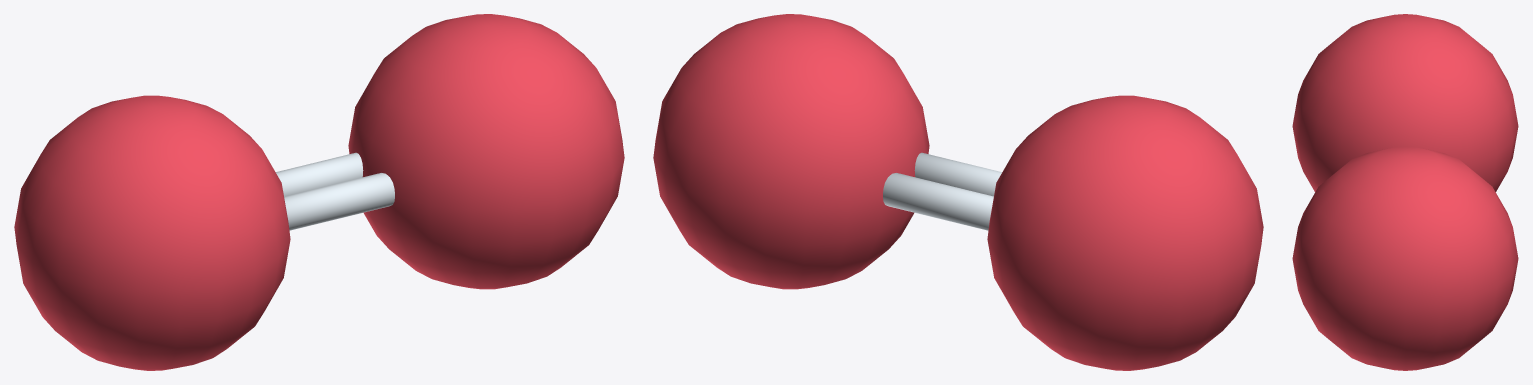
Rendered from oxygen-molecule-lite.glb.
The picture shows the model from 3 angles, left to right: view 1: azimuth 30°, elevation 25°; view 2: azimuth 150°, elevation 25°; view 3: azimuth 270°, elevation 25°; orthographic projection. The views are drawn at different scales.
Visible parts, largest first — view 1: Atom; view 2: Atom; view 3: Atom.
Part boxes in pixels (left/top/right/bottom): Atom: left=14, top=14, right=624, bottom=370; Atom: left=653, top=14, right=1263, bottom=370; Atom: left=1292, top=14, right=1518, bottom=370.
Size of the model in its own units: 1.72 by 0.72 by 0.72.
